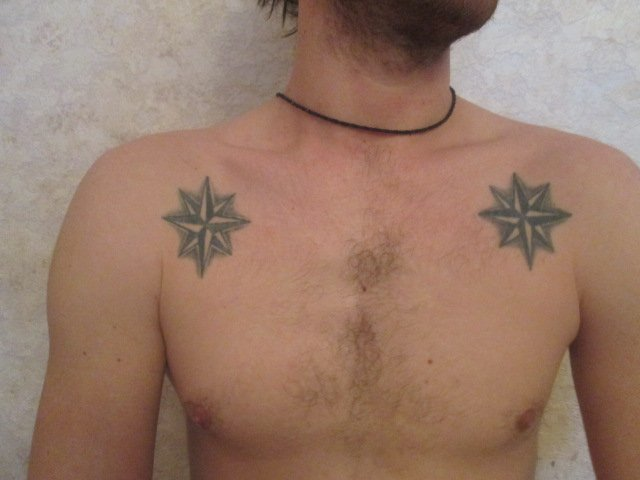tatu4_zvezda: (475, 172, 575, 274), (160, 175, 252, 285)
